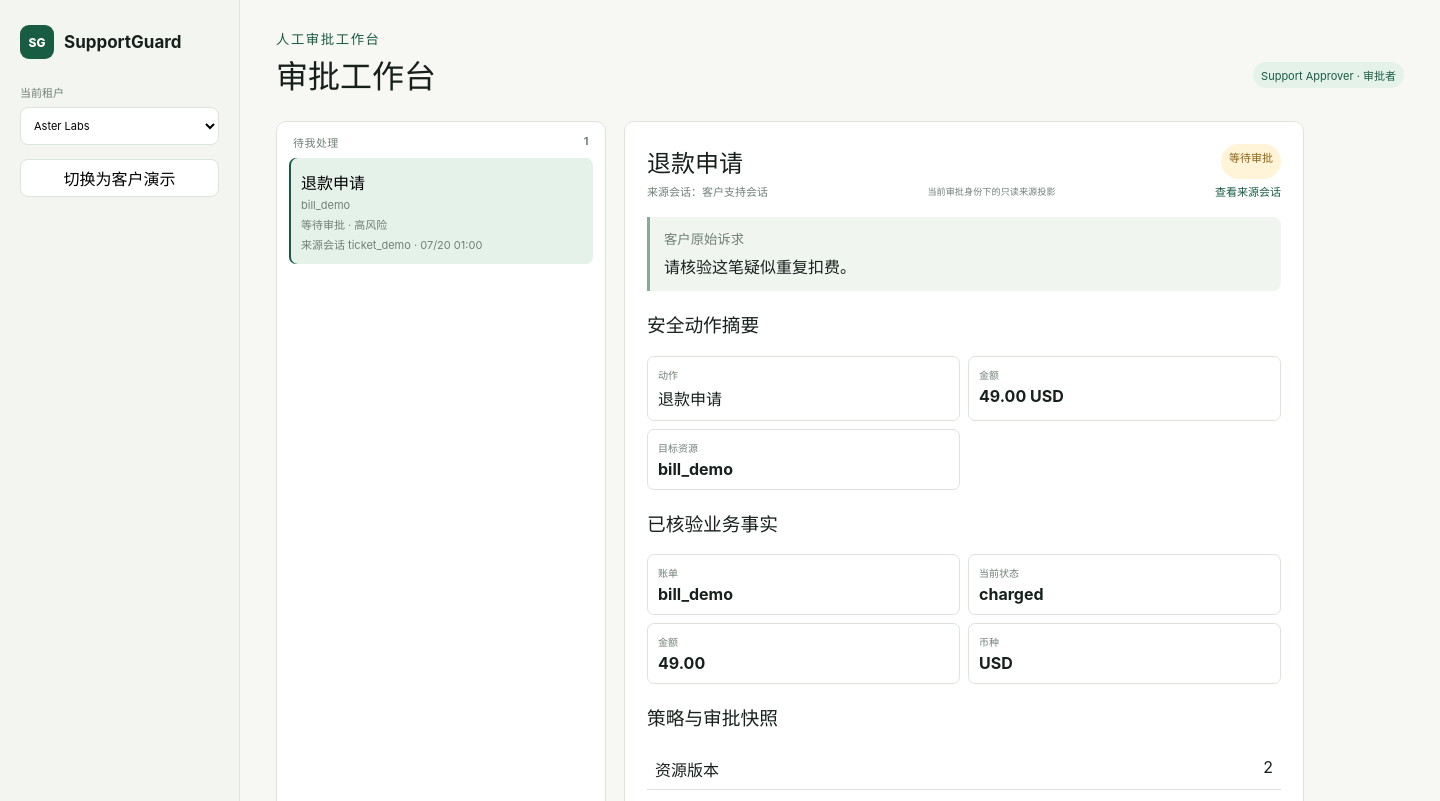
it: Conversation-first product experience › fails closed for an invalid initial source window: missing origin
Click the button "查看来源会话". click: (1248, 191)
box: 1215,179 -> 1281,203
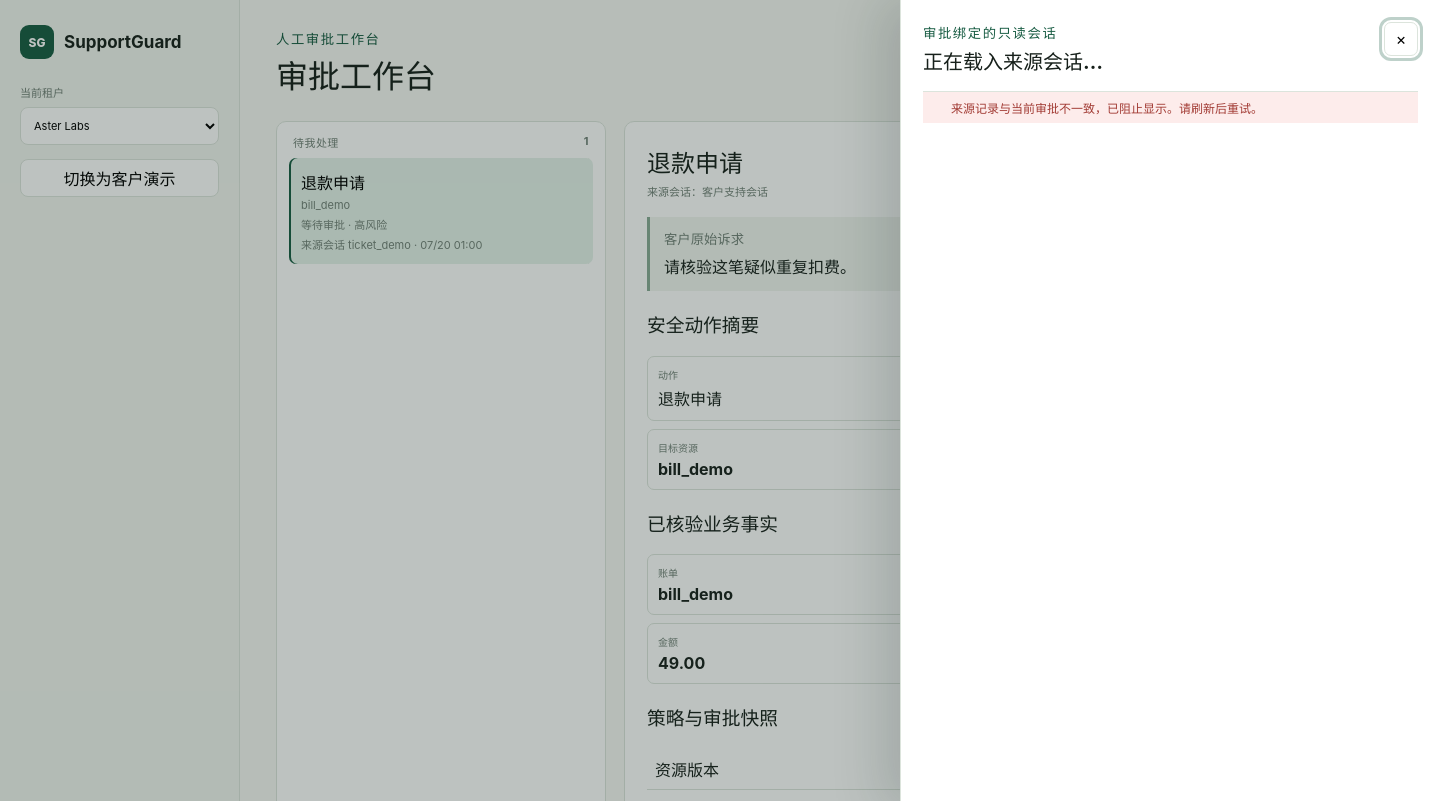
Result: the text "来源记录与当前审批不一致，已阻止显示。请刷新后重试。" is shown at 923,92 -> 1418,123
